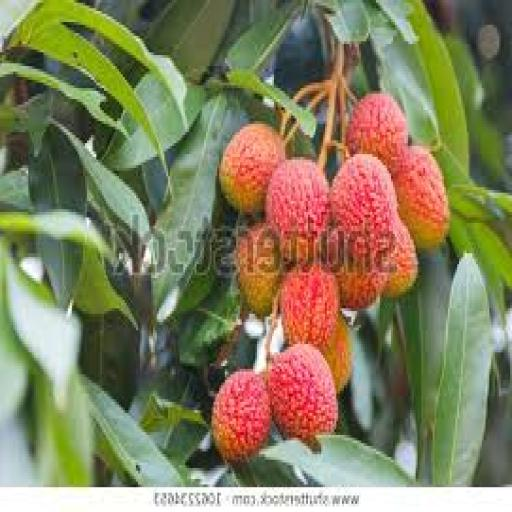lychee: (328, 155, 395, 308), (268, 345, 337, 443), (266, 160, 327, 261), (219, 124, 284, 214), (392, 146, 448, 250), (211, 372, 269, 462), (279, 265, 339, 349), (345, 94, 407, 165), (234, 223, 280, 316), (383, 218, 416, 297), (323, 317, 350, 393)
